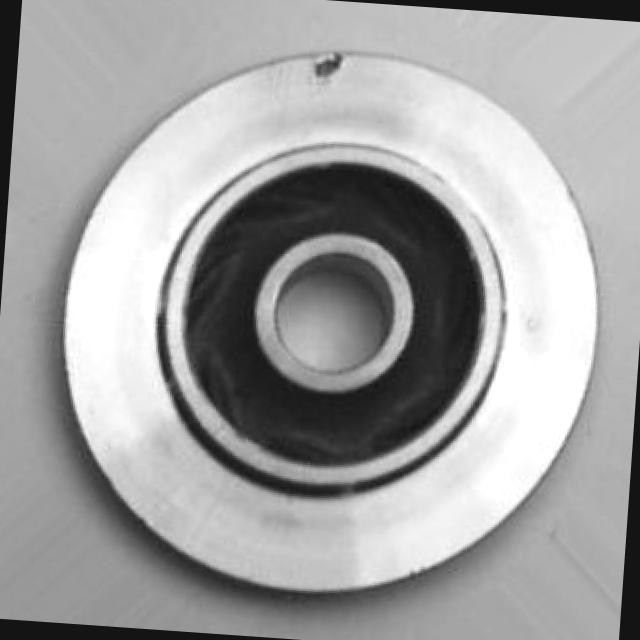Defect: (312, 49, 355, 83)
